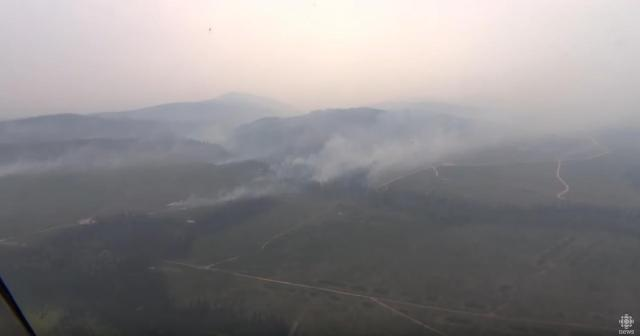smoke: (6, 103, 596, 210)
